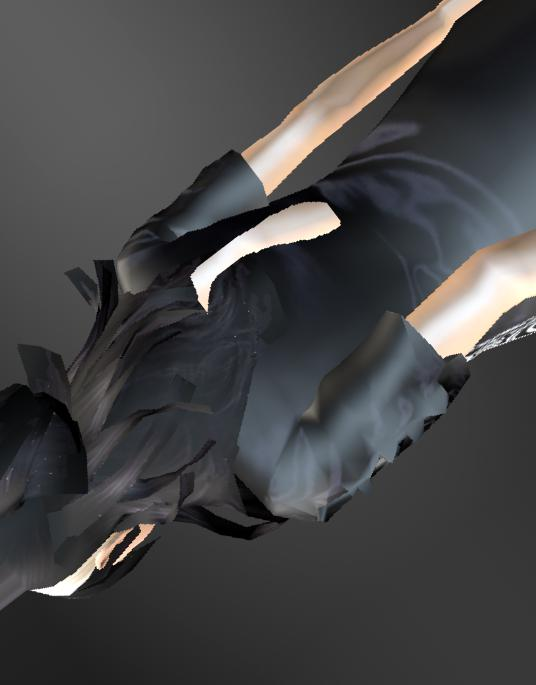clip: (183, 257, 270, 313)
